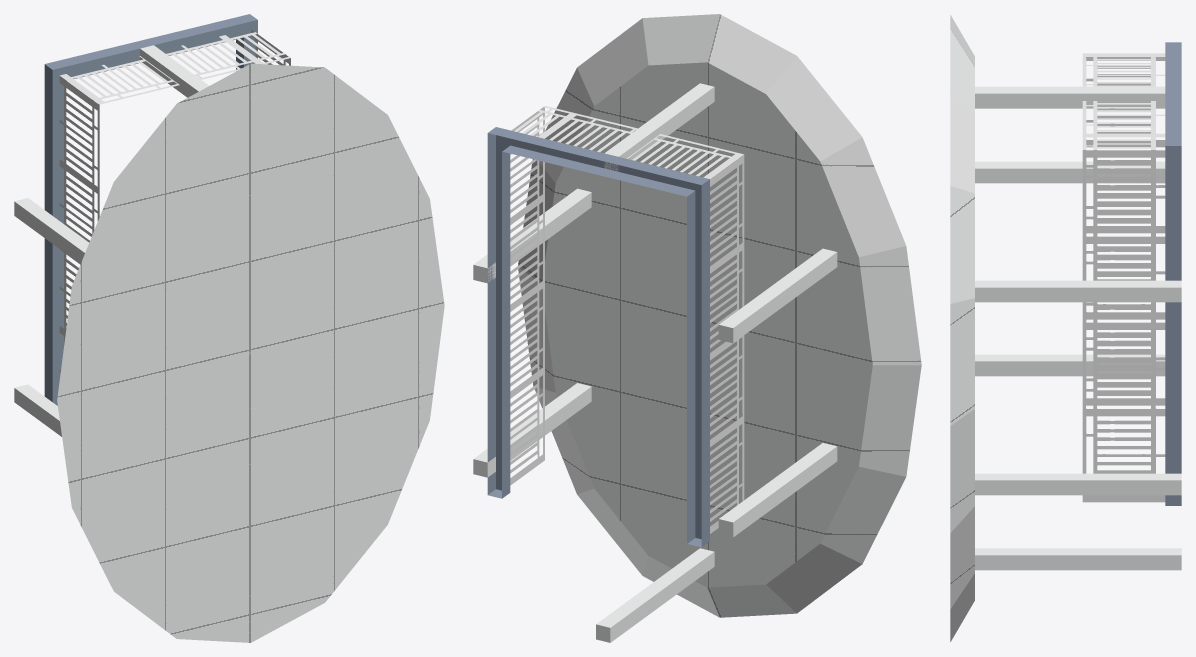
3 renders of one model, left to right at view 1: azimuth 30°, elevation 25°; view 2: azimuth 150°, elevation 25°; view 3: azimuth 270°, elevation 25°, orthographic. The views are drawn at different scales.
Parts seen in each view (by area): view 1: 立方体.001; view 2: 立方体.001; view 3: 立方体.001.
Part boxes in pixels (x1,y1,x2,y2): 立方体.001: (14,14,444,642); 立方体.001: (473,14,921,642); 立方体.001: (950,15,1181,641).
Bounding box in the file's own units: 5.6 × 8 × 2.8.
4 materials, 2 textured.
